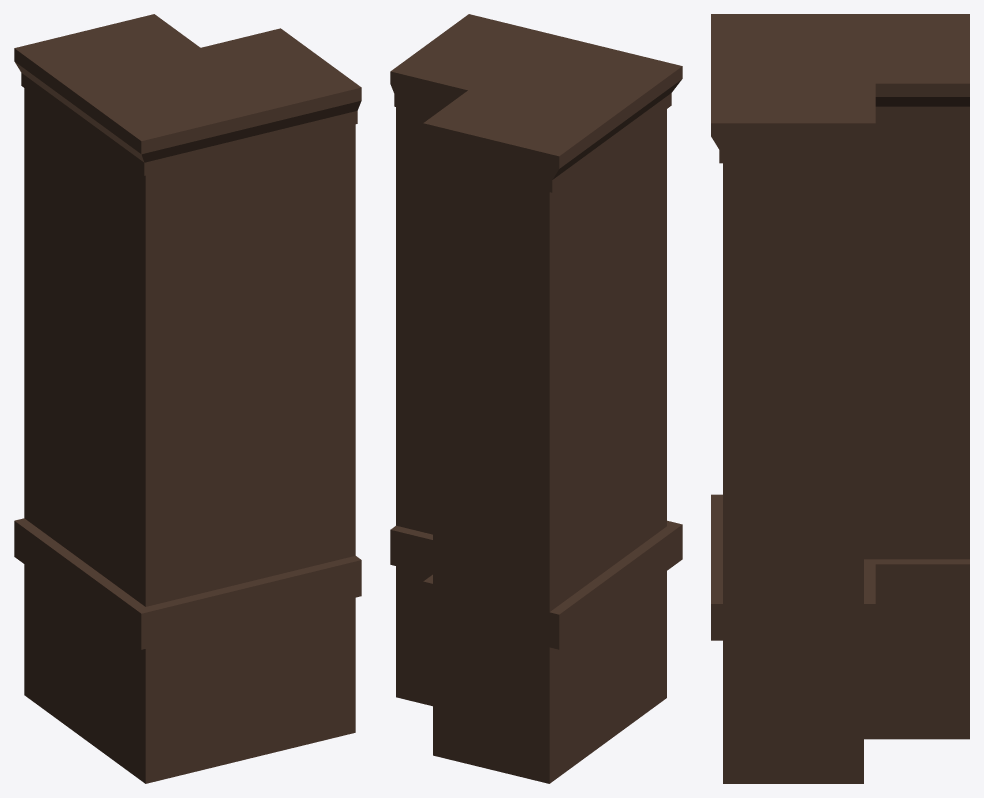
The model's file is S_ColumnAngle.fbx.
3 renders of one model, left to right at view 1: azimuth 30°, elevation 25°; view 2: azimuth 150°, elevation 25°; view 3: azimuth 270°, elevation 25°, orthographic. The views are drawn at different scales.
Visible parts, largest first — view 1: S_ColumnAngle; view 2: S_ColumnAngle; view 3: S_ColumnAngle.
Boxes of the visible parts, left/top/right/bottom form: S_ColumnAngle: left=14, top=14, right=361, bottom=783; S_ColumnAngle: left=390, top=14, right=682, bottom=783; S_ColumnAngle: left=711, top=14, right=969, bottom=783.
Size of the model in its own units: 110 by 310 by 110.
